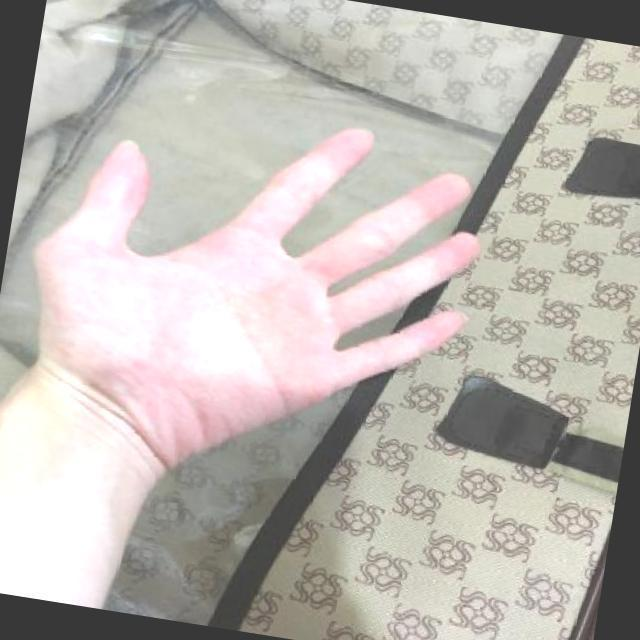hand: (0, 71, 510, 513)
